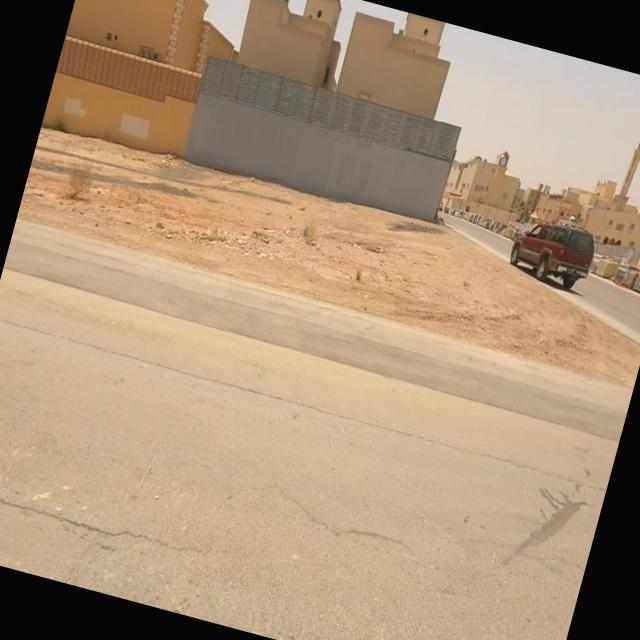debris: (272, 188, 335, 278)
